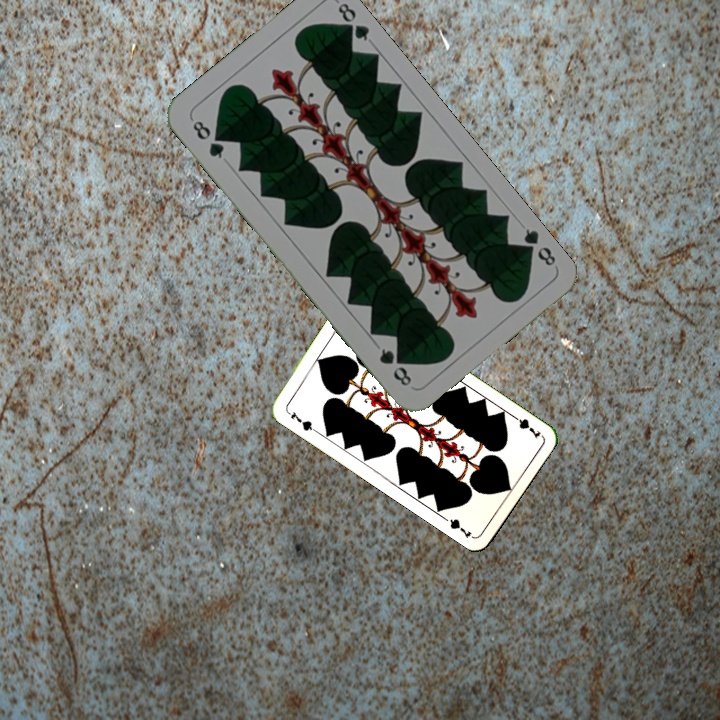G7: (507, 411, 543, 441), (283, 407, 319, 435)
G8: (515, 224, 559, 269), (188, 116, 227, 162)
